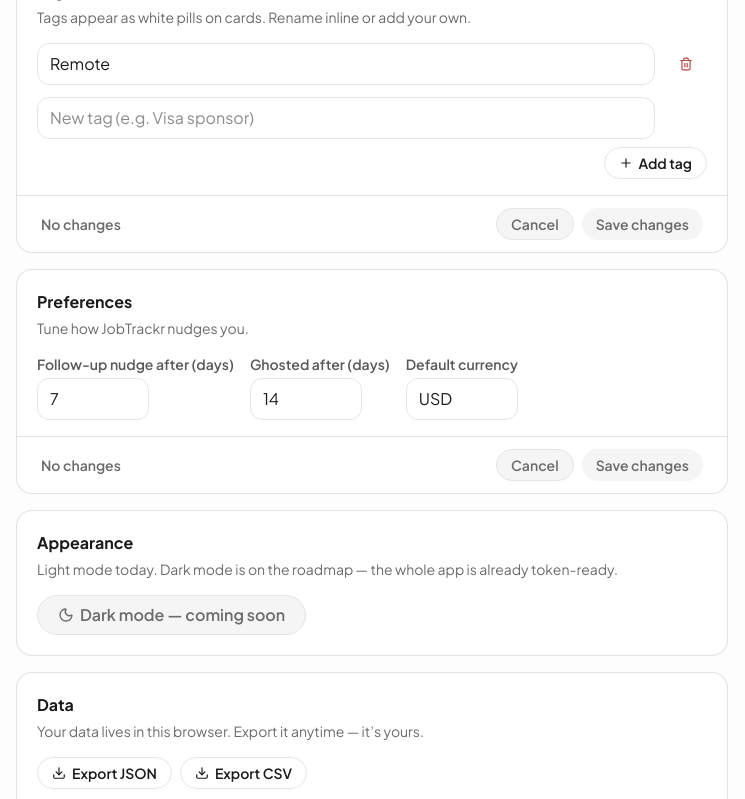
Settings tags and preferences › buffers preference edits behind save
The width and height of the screenshot is (745, 799).
(page scrolled)
Replace the text in the number field labelled "Follow-up nudge after (days)" with "14" at [93, 399], box [37,378,149,420]
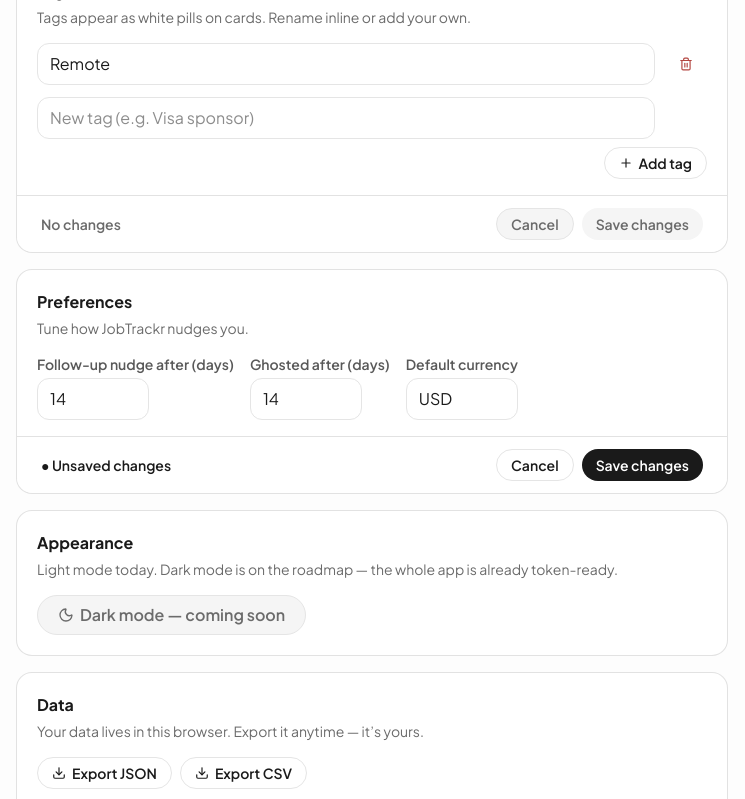
Check: the button "Save changes" in the row of "● Unsaved changes" is enabled, box [582,449,703,481]
